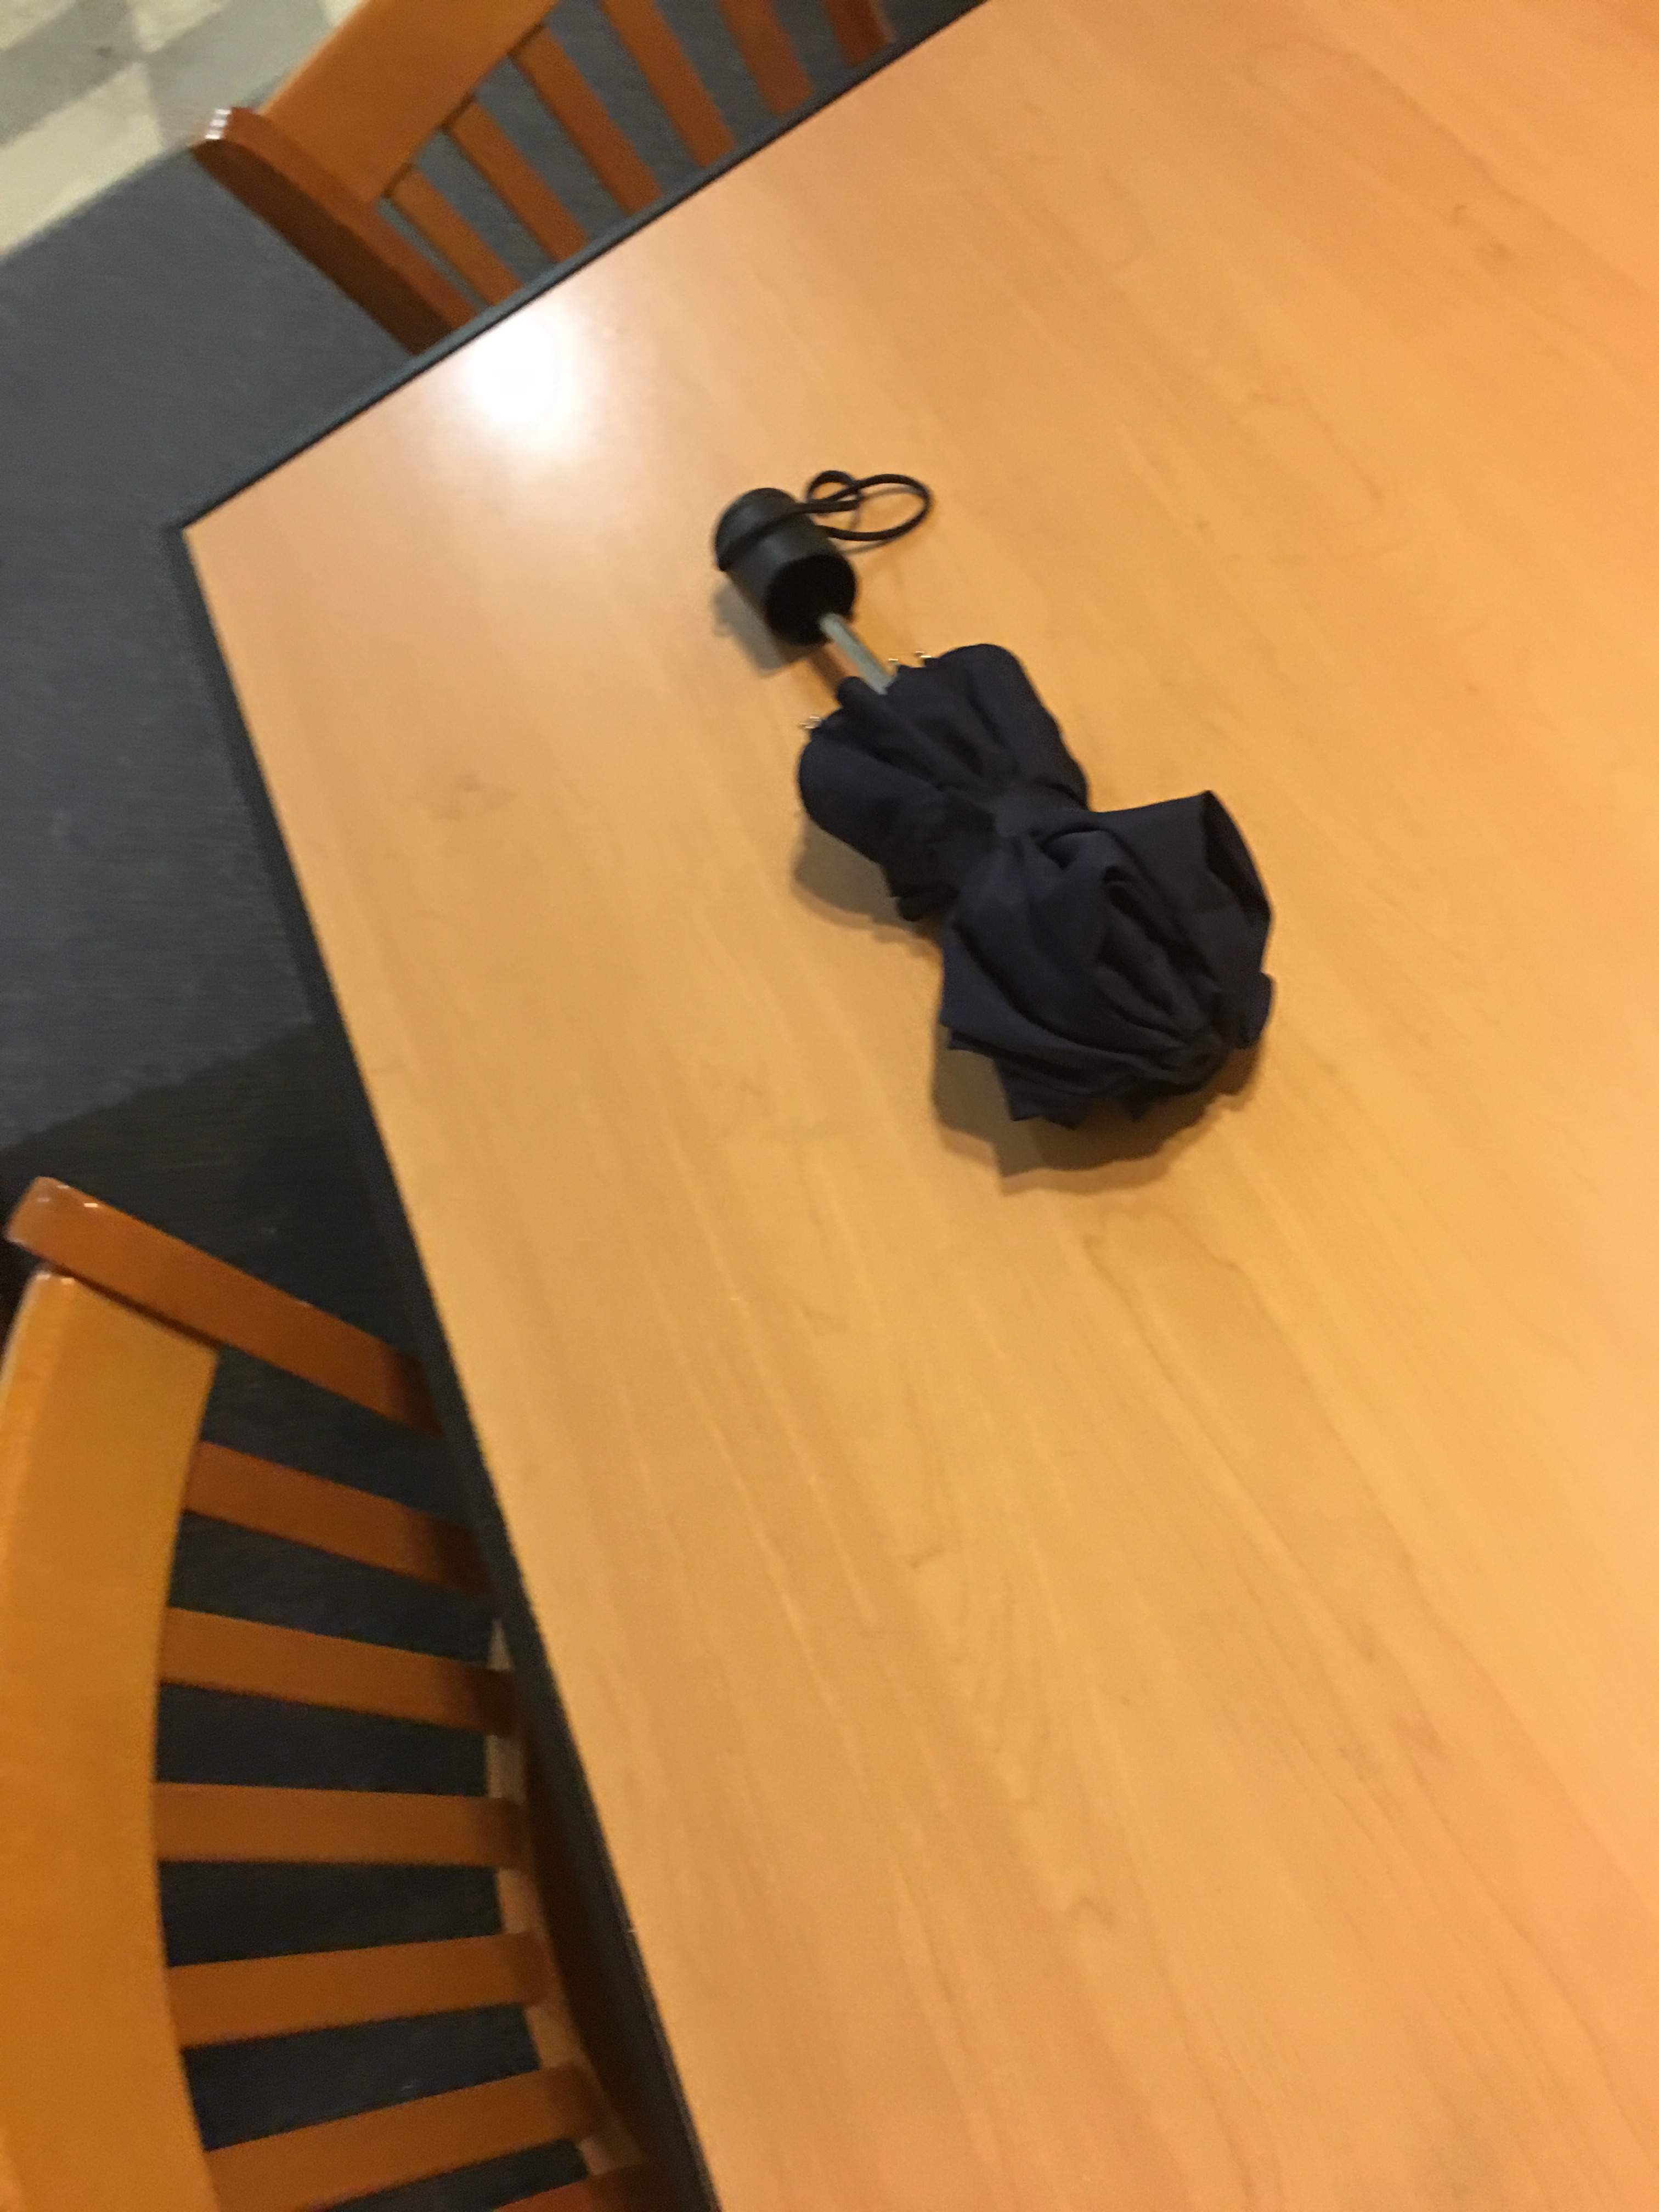Umbrella: (685, 493, 1302, 1144)
